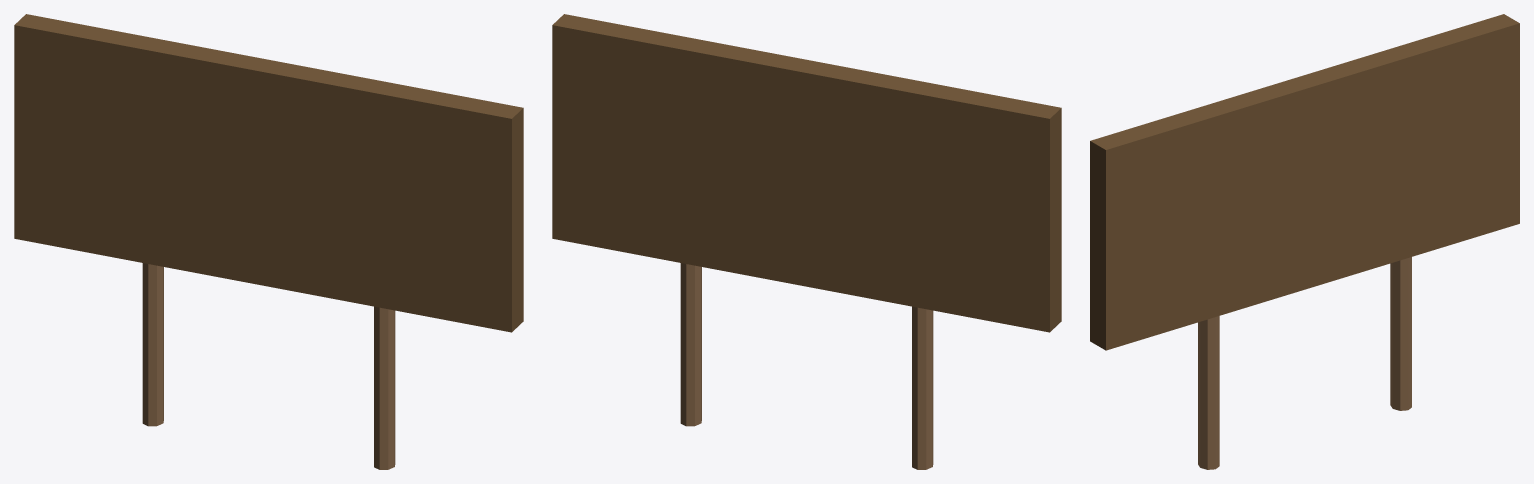
File: cartel_plaza_lev3.glb
The picture shows the model from 3 angles, left to right: view 1: azimuth 30°, elevation 25°; view 2: azimuth 210°, elevation 25°; view 3: azimuth 270°, elevation 25°; orthographic projection. The views are drawn at different scales.
Parts seen in each view (by area): view 1: cartel_plaza_lev3; view 2: cartel_plaza_lev3; view 3: cartel_plaza_lev3.
Boxes of the visible parts, <box> form: cartel_plaza_lev3: <box>14,14,523,469</box>; cartel_plaza_lev3: <box>552,14,1061,469</box>; cartel_plaza_lev3: <box>1090,14,1519,469</box>.
Bounding box in the file's own units: 4.79 × 5.81 × 6.39.
